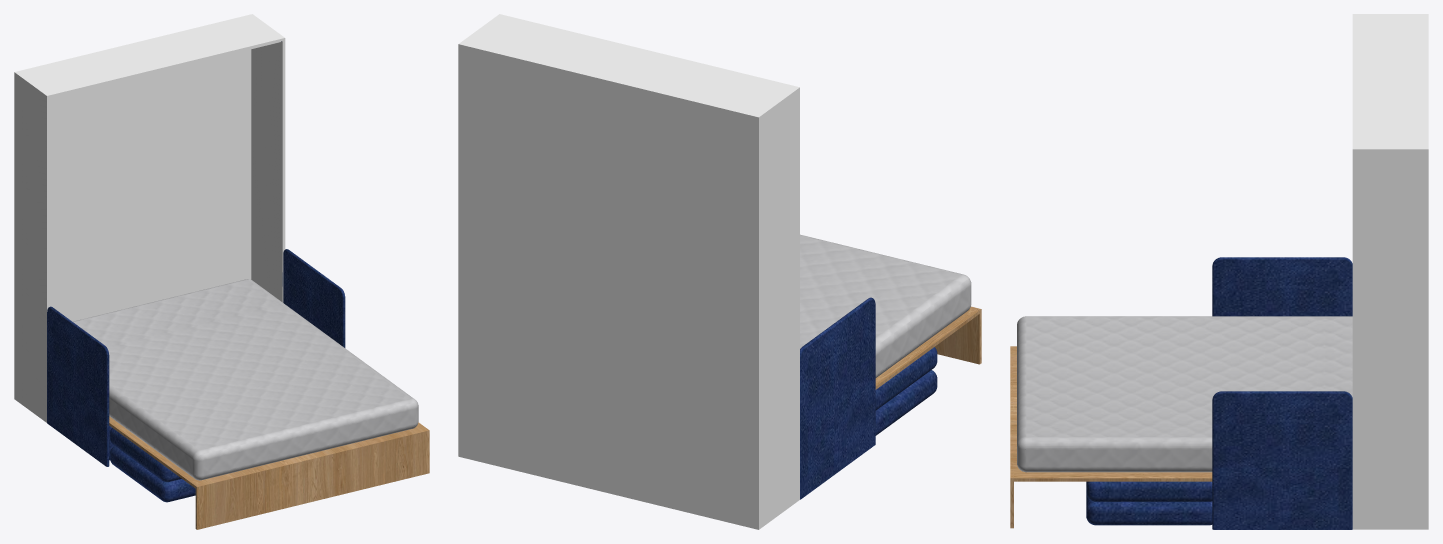
Rendered from opklapbed.gltf.
3 renders of one model, left to right at view 1: azimuth 30°, elevation 25°; view 2: azimuth 150°, elevation 25°; view 3: azimuth 270°, elevation 25°, orthographic. The views are drawn at different scales.
Visible parts, largest first — view 1: opklapbed; view 2: opklapbed; view 3: opklapbed.
Part boxes in pixels (<box>): opklapbed: <box>14,14,429,529</box>; opklapbed: <box>458,14,981,529</box>; opklapbed: <box>1010,14,1428,529</box>.
Bounding box in the file's own units: 1690 × 2211 × 2202.
4 materials, 3 textured.
